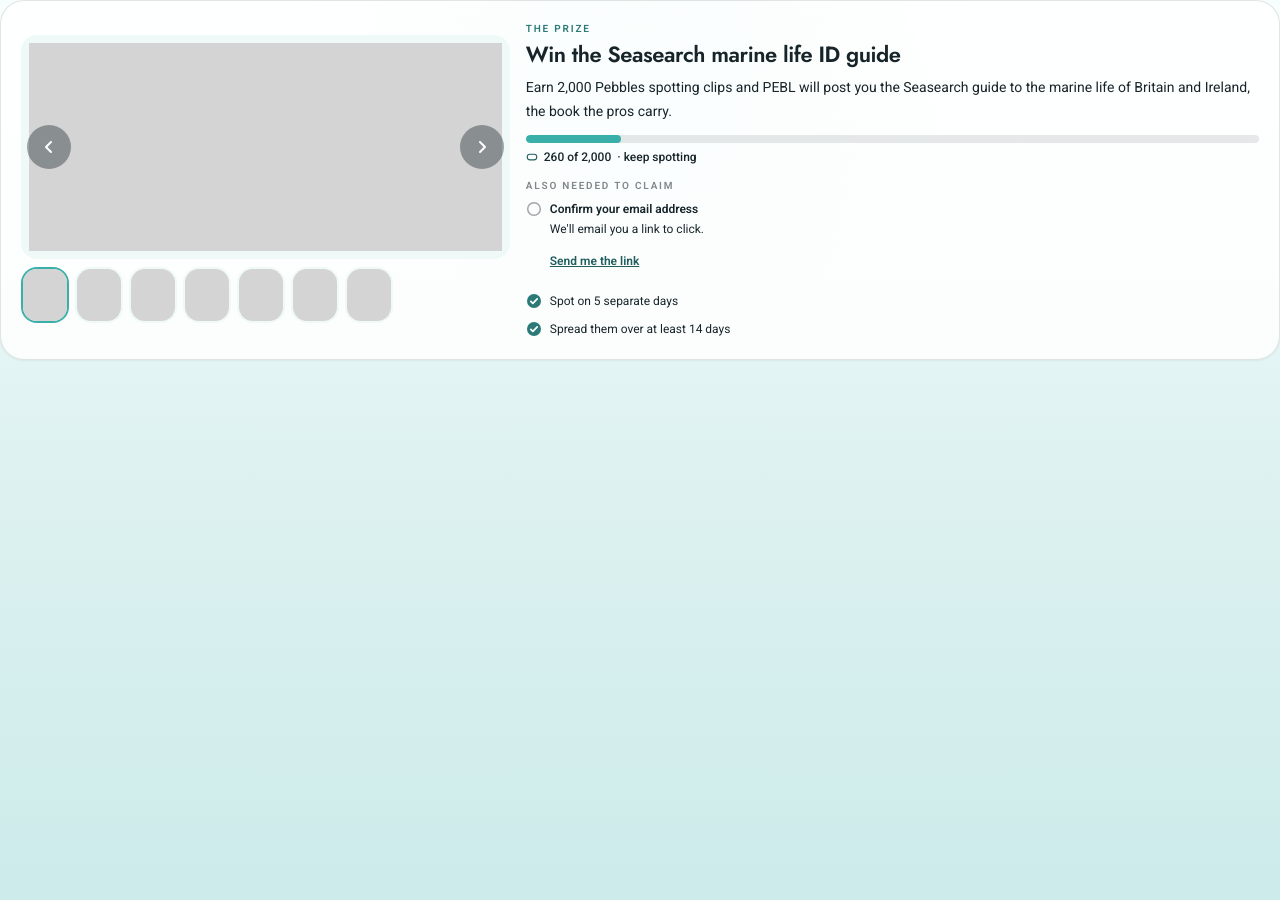
Scenario: PrizeCard › tells the truth when the link could not be sent
Click the button "Send me the link" at (595,261), box top-left (550, 239), bottom-right (639, 283)
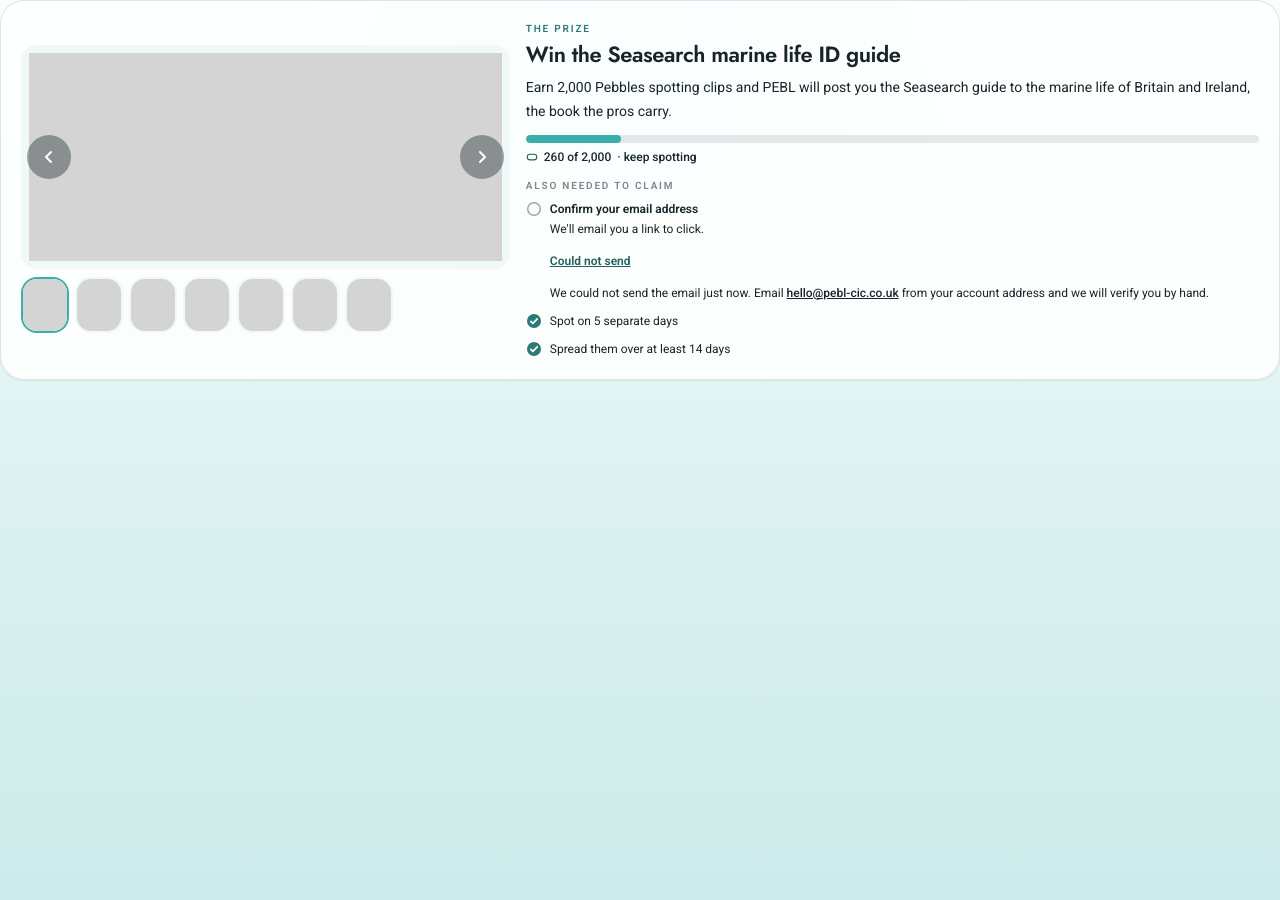
expect the button "Could not send" is shown: met, box top-left (550, 239), bottom-right (631, 283)
expect the message shows "verify you by hand": met, box top-left (899, 286), bottom-right (1209, 300)
